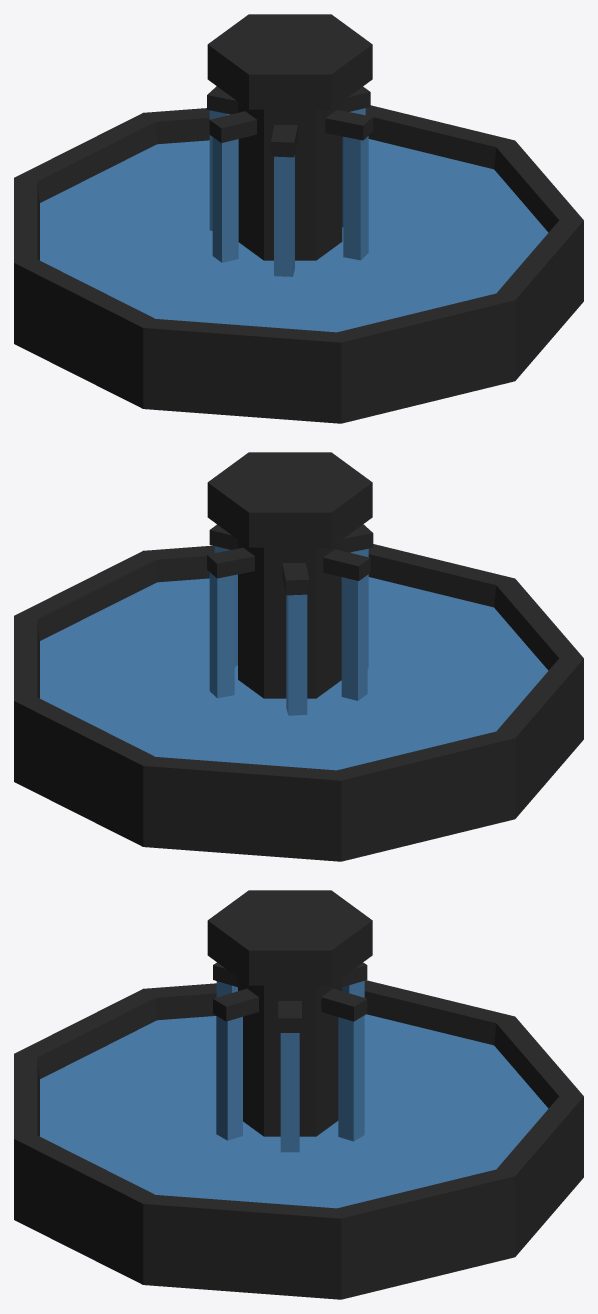
File: fountain.glb
The picture shows the model from 3 angles, top to bottom: view 1: azimuth 30°, elevation 25°; view 2: azimuth 150°, elevation 25°; view 3: azimuth 270°, elevation 25°; orthographic projection.
Parts seen in each view (by area): view 1: Cylinder.003; view 2: Cylinder.003; view 3: Cylinder.003.
Part boxes in pixels (x1,y1,x2,y2): Cylinder.003: [14, 14, 583, 423]; Cylinder.003: [14, 452, 583, 861]; Cylinder.003: [14, 890, 583, 1299].
Size of the model in its own units: 9.71 by 4.76 by 9.56.
